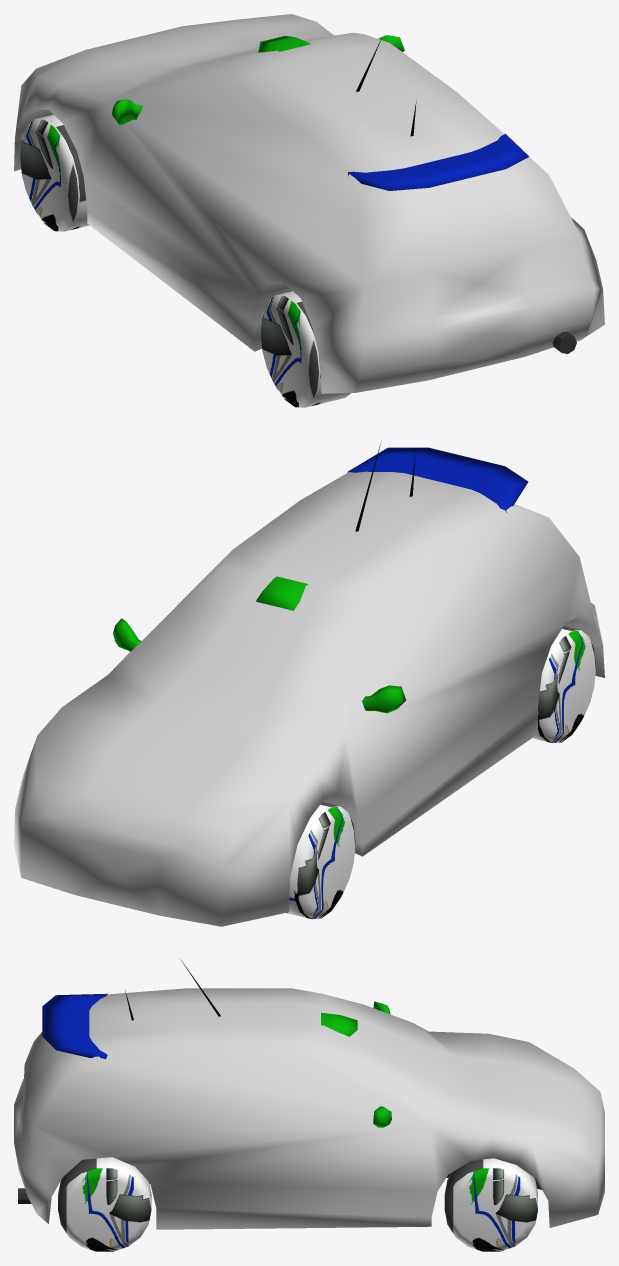
Rendered from ford_focus2.obj.
3 renders of one model, top to bottom at view 1: azimuth 30°, elevation 25°; view 2: azimuth 150°, elevation 25°; view 3: azimuth 270°, elevation 25°, orthographic. The views are drawn at different scales.
Visible parts, largest first — view 1: Mesh.001_Line01, Mesh.021_Cylinder01x.007, Mesh.019_Cylinder01x.005, Mesh.003_Cylinder01, Mesh.014_Box01, Mesh.011_Box02; view 2: Mesh.001_Line01, Mesh.021_Cylinder01x.007, Mesh.019_Cylinder01x.005, Mesh.003_Cylinder01, Mesh.014_Box01, Mesh.011_Box02; view 3: Mesh.001_Line01, Mesh.020_Cylinder01x.006, Mesh.018_Cylinder01x.004, Mesh.003_Cylinder01, Mesh.014_Box01.
Part boxes in pixels (x1,y1,x2,y2): Mesh.001_Line01: (14, 14, 604, 393); Mesh.021_Cylinder01x.007: (20, 114, 89, 231); Mesh.019_Cylinder01x.005: (261, 291, 350, 407); Mesh.003_Cylinder01: (348, 133, 529, 190); Mesh.014_Box01: (258, 36, 311, 52); Mesh.011_Box02: (111, 99, 143, 124); Mesh.001_Line01: (14, 471, 604, 926); Mesh.021_Cylinder01x.007: (286, 802, 355, 919); Mesh.019_Cylinder01x.005: (532, 626, 595, 742); Mesh.003_Cylinder01: (347, 447, 528, 512); Mesh.014_Box01: (256, 576, 308, 610); Mesh.011_Box02: (362, 685, 406, 713); Mesh.001_Line01: (14, 988, 604, 1229); Mesh.020_Cylinder01x.006: (58, 1157, 151, 1251); Mesh.018_Cylinder01x.004: (444, 1158, 537, 1251); Mesh.003_Cylinder01: (42, 993, 107, 1059); Mesh.014_Box01: (321, 1012, 357, 1036).
Bounding box in the file's own units: 4.27 × 4.27 × 9.43.
6 materials, 1 textured.
